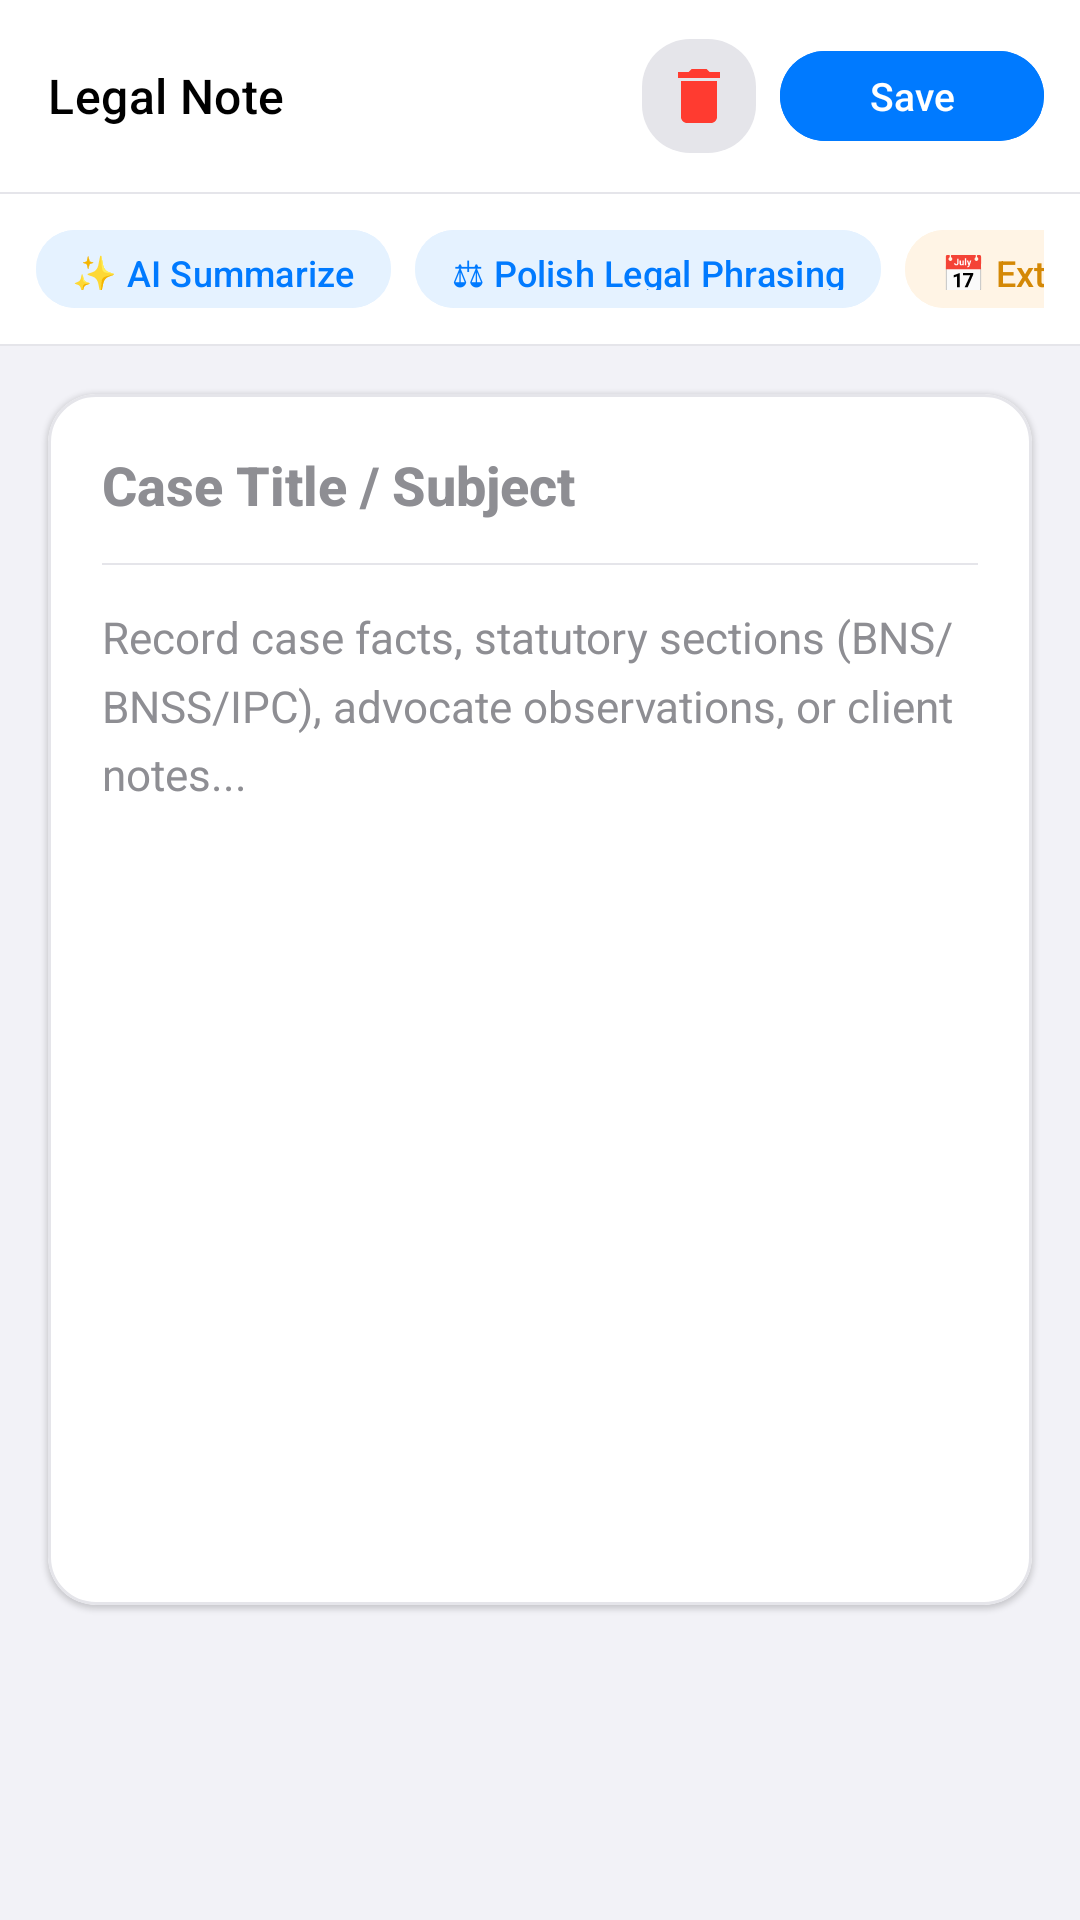

Where icons sit on this 1080*1920 app screen, as [x1,y1,x2,y2]:
Delete Note: [642,39,756,153]
